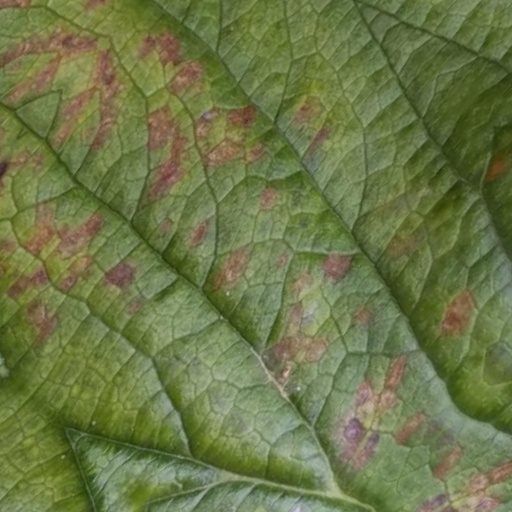Angular Leafspot: (0, 20, 511, 509)
